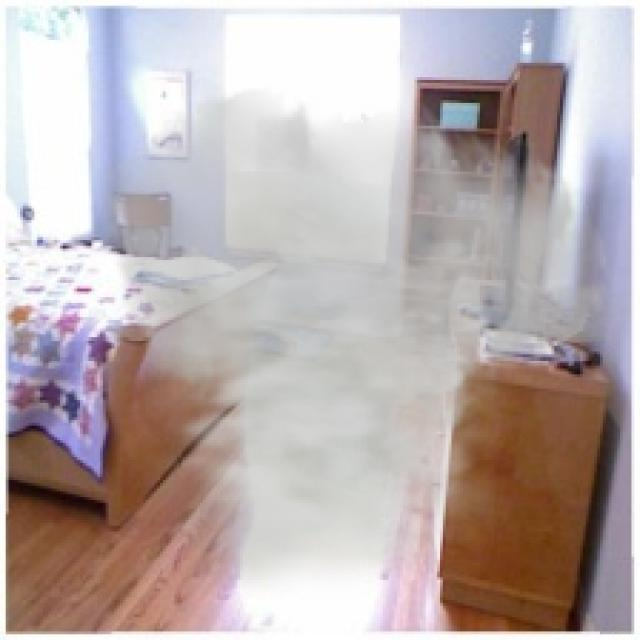Smoke: (95, 85, 614, 600)
